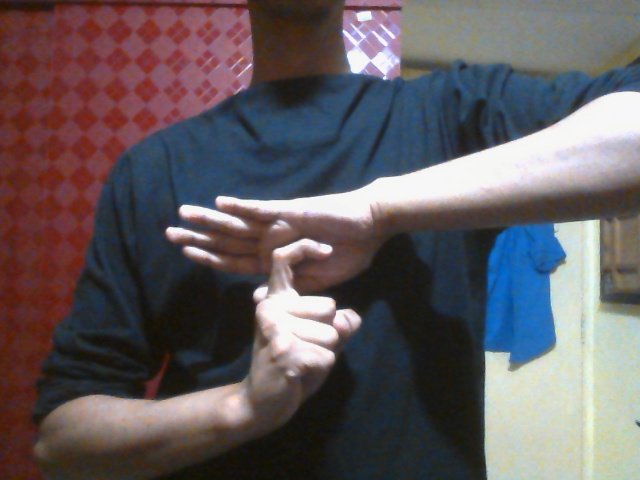R: (164, 191, 402, 429)
